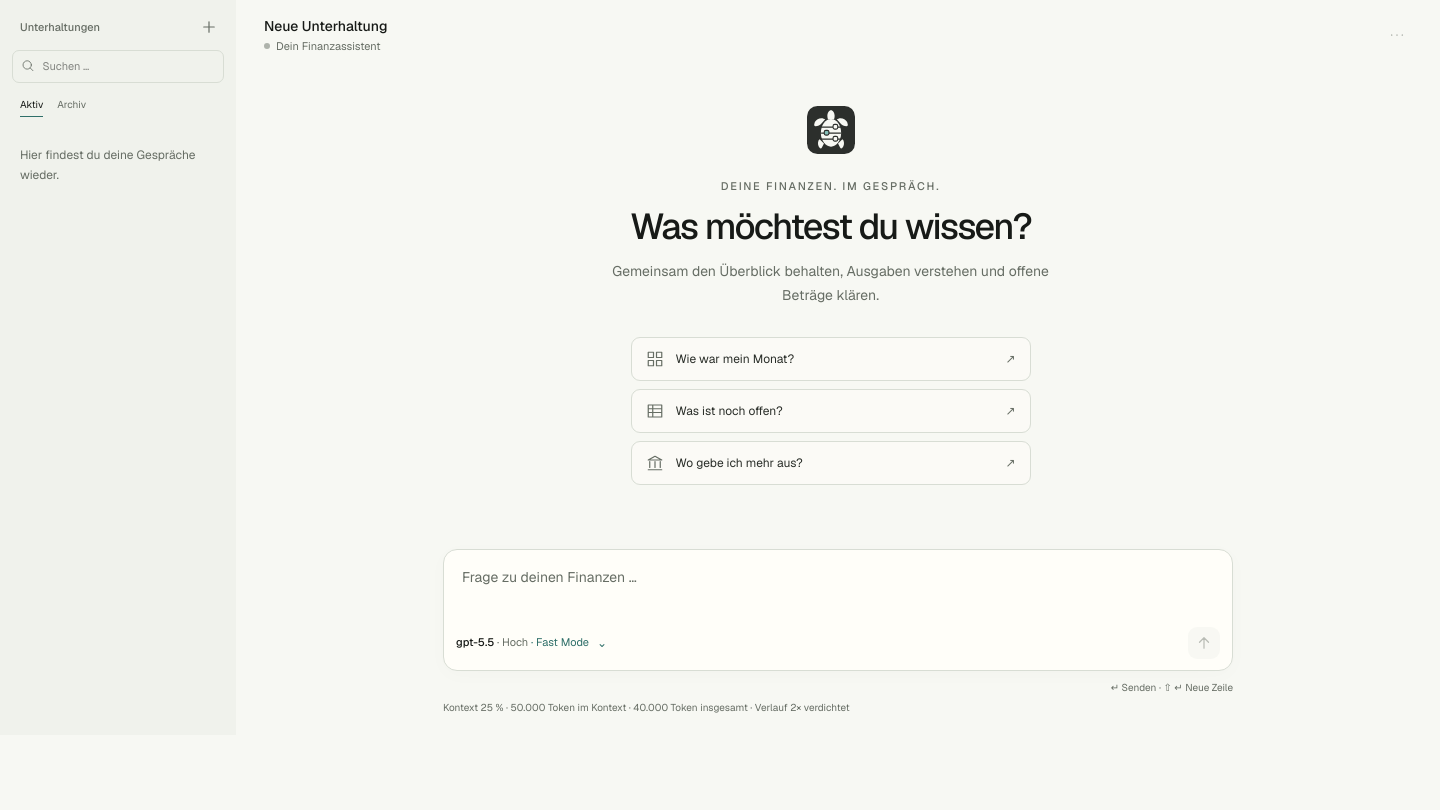
Test case: FinanceAssistant › offers the suggestions as controls and shows the bound configuration while chatting
Expected: the text "gpt-5.5" is shown, [456,635,494,649]
Expected: the text "· Fast Mode" is shown, [528,635,589,649]
Click the button "Wie war mein Monat? ↗".
click(735, 358)  # box [630,336,1030,380]
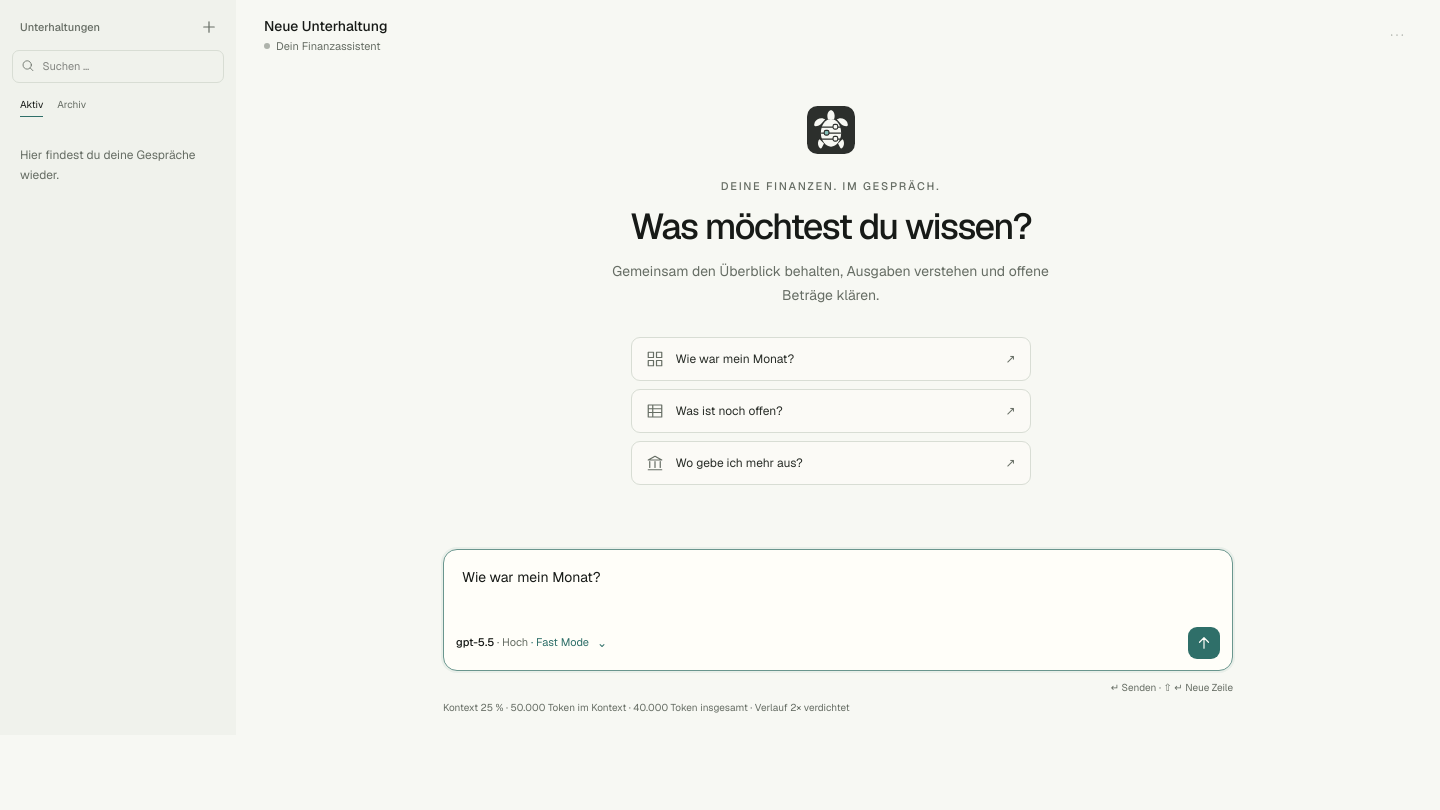
Now the text box named "Frage an den Finanzassistenten" holds "Wie war mein Monat?", box [450,556,1226,624]
